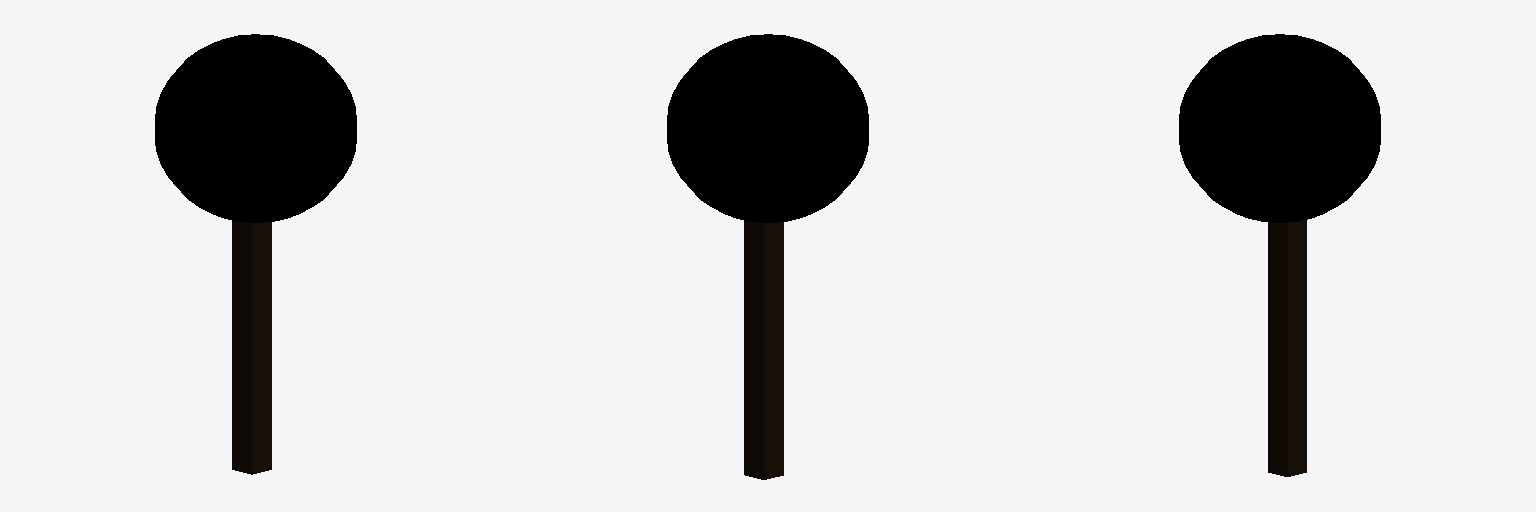
The model's file is CAKEPOP.obj.
3 renders of one model, left to right at view 1: azimuth 30°, elevation 25°; view 2: azimuth 150°, elevation 25°; view 3: azimuth 270°, elevation 25°, orthographic.
Parts seen in each view (by area): view 1: CAKE_POP; view 2: CAKE_POP; view 3: CAKE_POP.
Part boxes in pixels (left/top/right/bottom): CAKE_POP: left=155, top=34, right=356, bottom=474; CAKE_POP: left=667, top=34, right=868, bottom=479; CAKE_POP: left=1179, top=34, right=1380, bottom=476.
Bounding box in the file's own units: 0.8541 × 1.94 × 0.842.